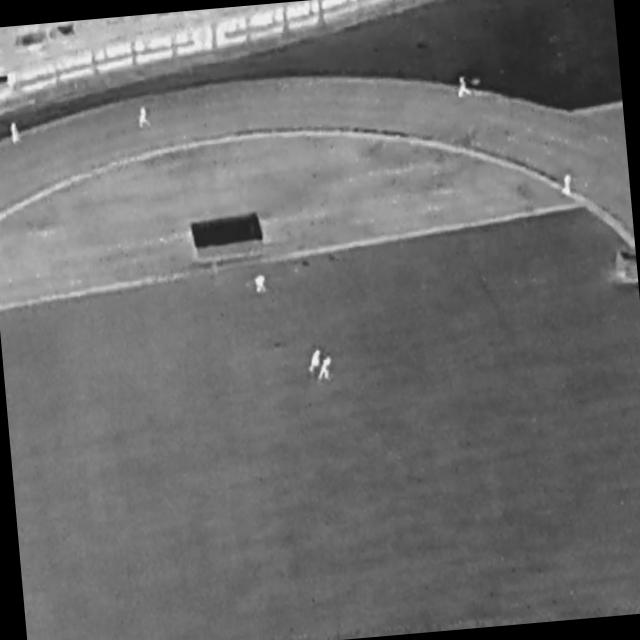person: (316, 351, 338, 385), (306, 347, 325, 376), (457, 76, 471, 99), (138, 107, 151, 129), (561, 175, 573, 197), (255, 274, 268, 294), (11, 123, 22, 145)
